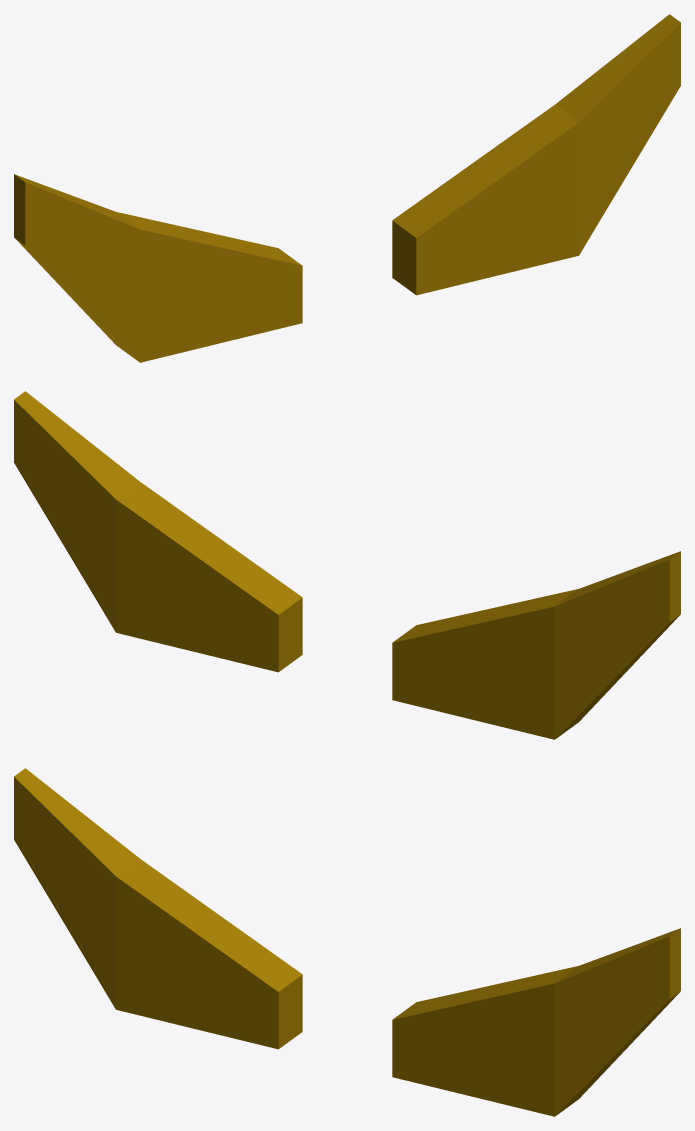
File: Waruimon_face.obj
The picture shows the model from 3 angles, top to bottom: view 1: azimuth 30°, elevation 25°; view 2: azimuth 150°, elevation 25°; view 3: azimuth 330°, elevation 25°; orthographic projection.
Visible parts, largest first — view 1: Cube_Cube.001; view 2: Cube_Cube.001; view 3: Cube_Cube.001.
Boxes of the visible parts, x1=… form: Cube_Cube.001: x1=14, y1=14, x2=680, y2=362; Cube_Cube.001: x1=14, y1=391, x2=680, y2=739; Cube_Cube.001: x1=14, y1=768, x2=680, y2=1116.
Size of the model in its own units: 3.3 by 0.9734 by 0.2109.
